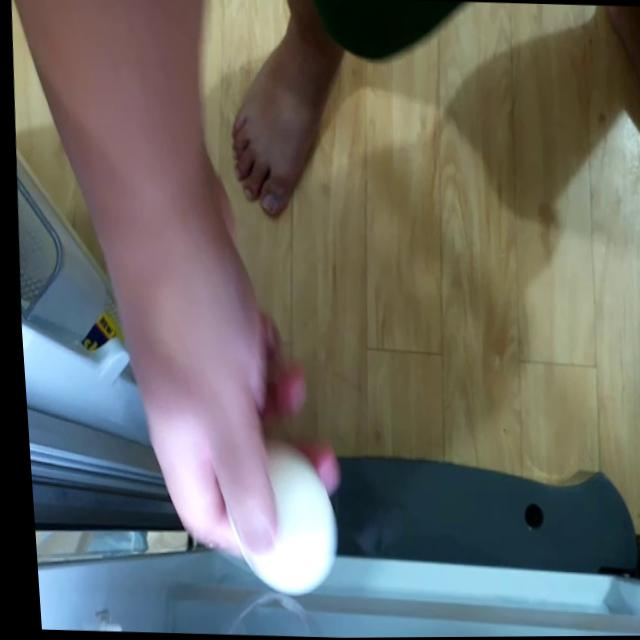egg: (220, 435, 336, 599)
